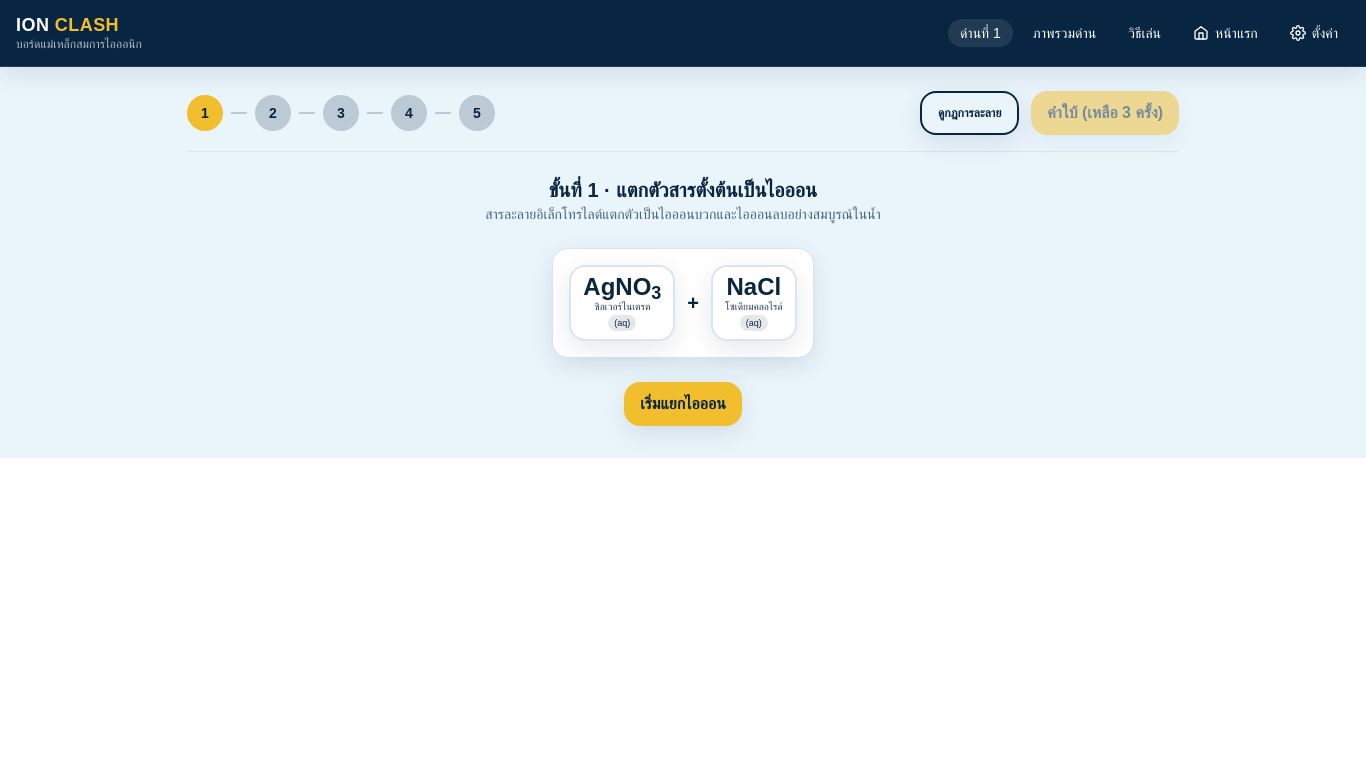
it: Play Page (/level/[levelId]/play) › สามารถเปิดแผงดูกฎการละลายได้โดยไม่หักคะแนน
Click the button "ดูกฎการละลาย".
click(970, 112)  # box [920,90,1019,134]
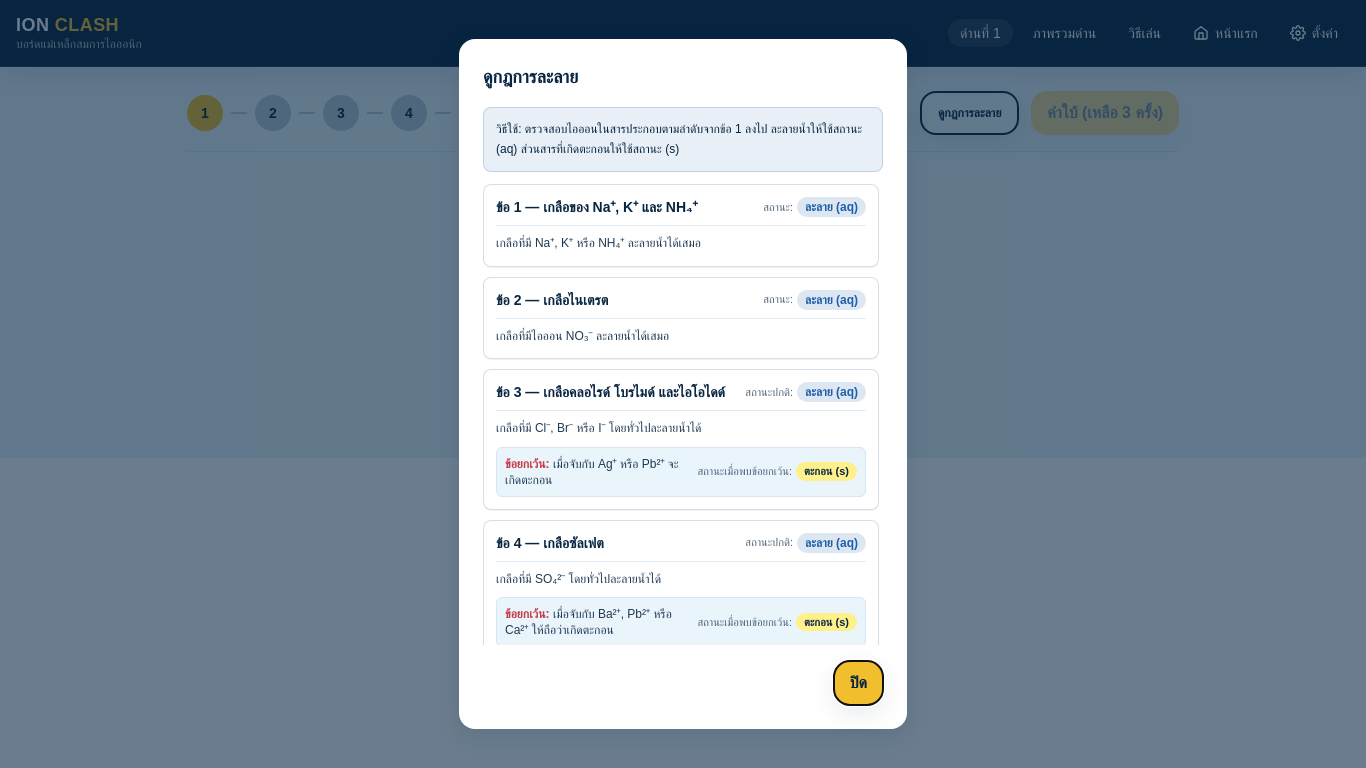
Check: the dialog "ดูกฎการละลาย" is shown, box [459,39,907,729]
Check: the heading "ข้อ 1 — เกลือของ Na⁺, K⁺ และ NH₄⁺" is shown, box [496,197,697,217]
Click the button "ปิด".
click(858, 683)  # box [834,661,883,705]
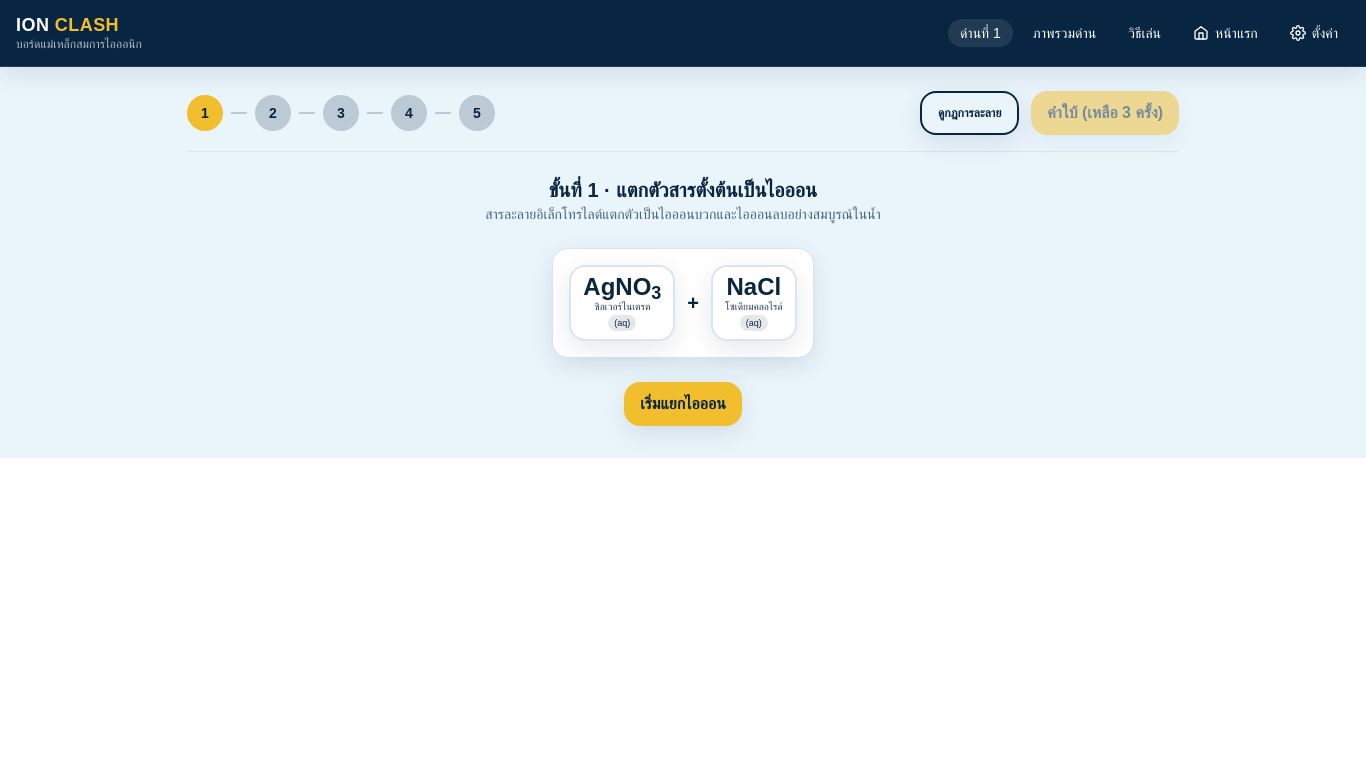
Check: the dialog is gone
